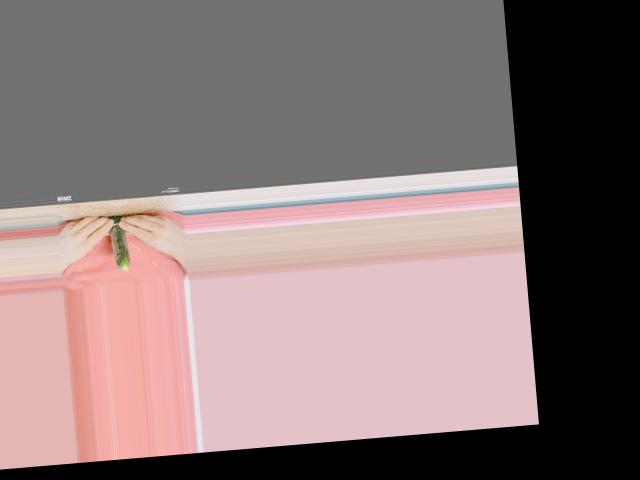cucumber: (109, 214, 131, 271)
